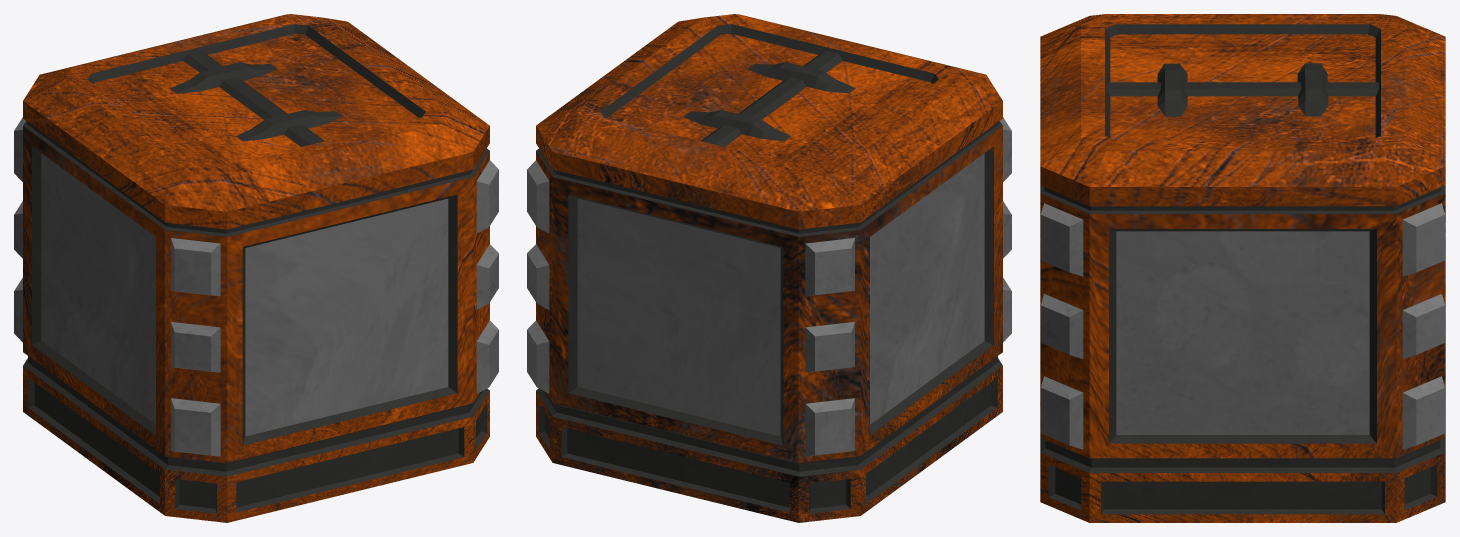
The model's file is CaixaGrande 1.fbx.
The picture shows the model from 3 angles, left to right: view 1: azimuth 30°, elevation 25°; view 2: azimuth 150°, elevation 25°; view 3: azimuth 270°, elevation 25°; orthographic projection. The views are drawn at different scales.
Visible parts, largest first — view 1: Crate00; view 2: Crate00; view 3: Crate00.
Part boxes in pixels (left/top/right/bottom): Crate00: left=14, top=14, right=498, bottom=522; Crate00: left=527, top=14, right=1011, bottom=522; Crate00: left=1040, top=14, right=1445, bottom=522.
Size of the model in its own units: 2.04 by 1.99 by 2.04.
3 materials, 3 textured.
